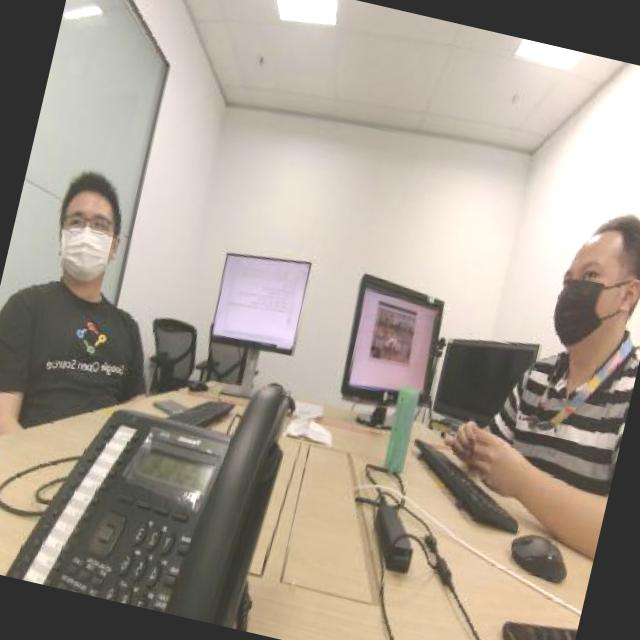Person: (0, 134, 185, 423), (500, 164, 640, 519)
